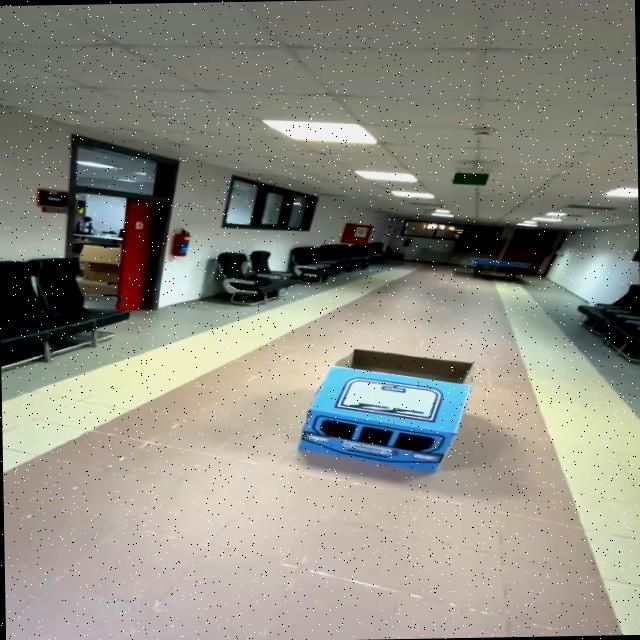blue_car: (238, 335, 508, 487)
